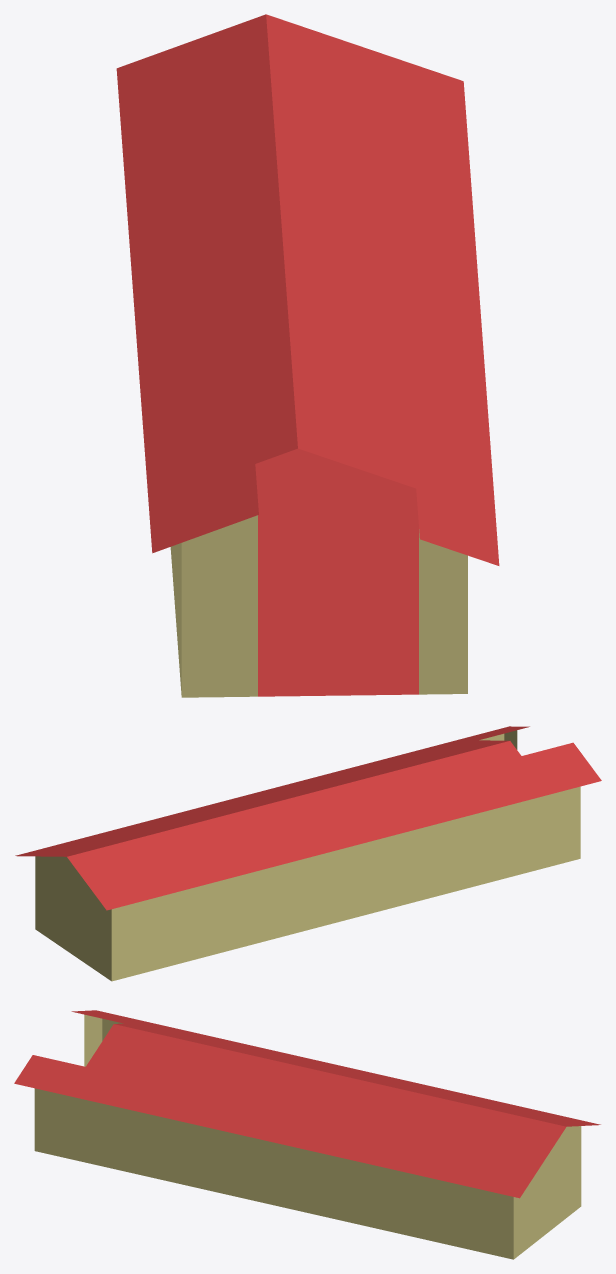
The picture shows the model from 3 angles, top to bottom: view 1: azimuth 30°, elevation 25°; view 2: azimuth 150°, elevation 25°; view 3: azimuth 270°, elevation 25°; orthographic projection. The views are drawn at different scales.
Bounding box in the file's own units: 41.95 × 58.11 × 11.43.
